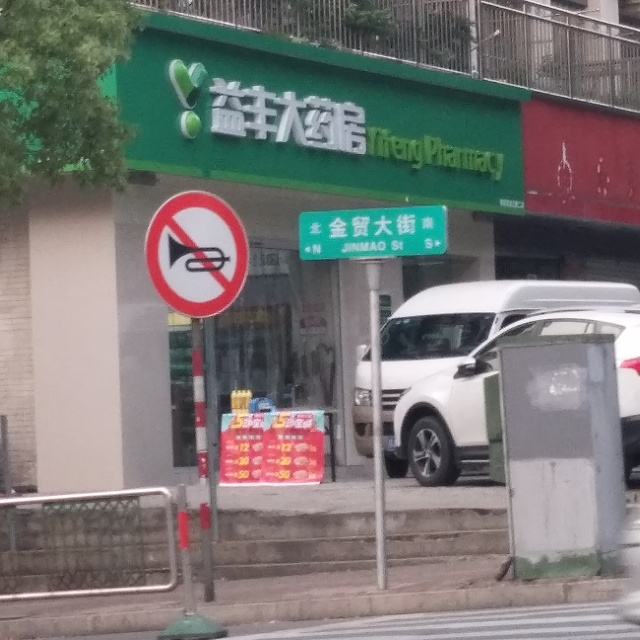nohonk: (142, 186, 257, 325)
